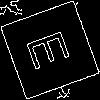E: (25, 25, 80, 72)
